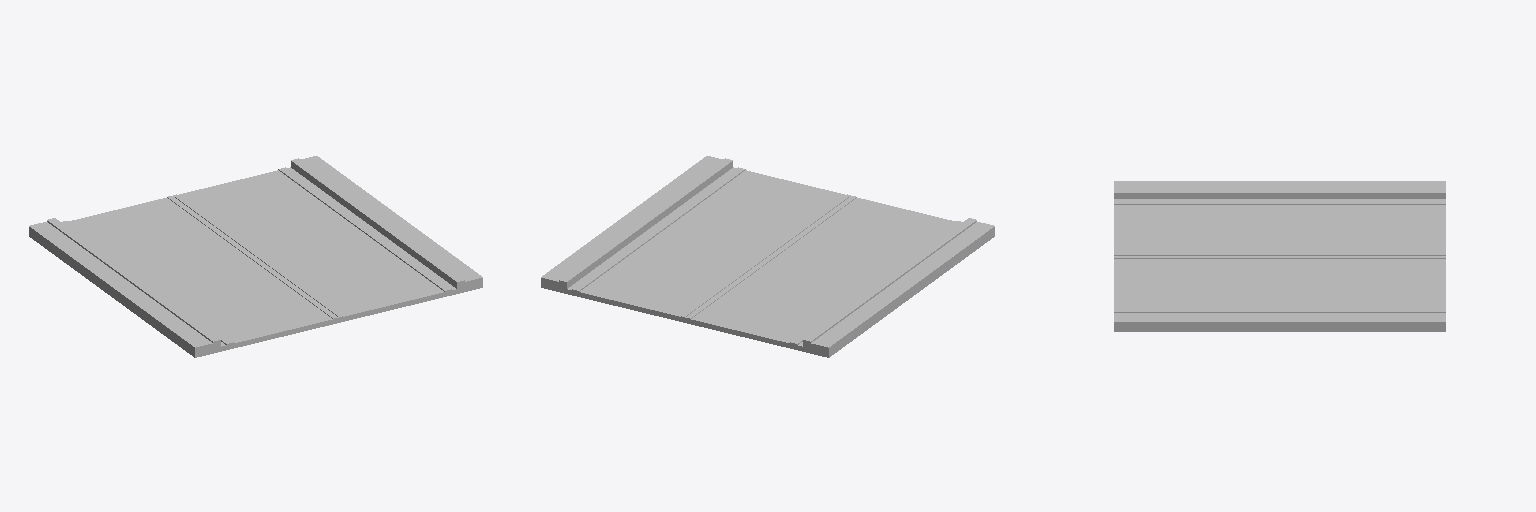
The model's file is road_I_2.obj.
3 renders of one model, left to right at view 1: azimuth 30°, elevation 25°; view 2: azimuth 150°, elevation 25°; view 3: azimuth 270°, elevation 25°, orthographic.
Parts seen in each view (by area): view 1: road_I_2_roads_material; view 2: road_I_2_roads_material; view 3: road_I_2_roads_material.
Boxes of the visible parts, x1=… form: road_I_2_roads_material: x1=29, y1=156, x2=482, y2=357; road_I_2_roads_material: x1=541, y1=156, x2=994, y2=357; road_I_2_roads_material: x1=1114, y1=181, x2=1445, y2=331.
Size of the model in its own units: 12 by 0.4753 by 12.